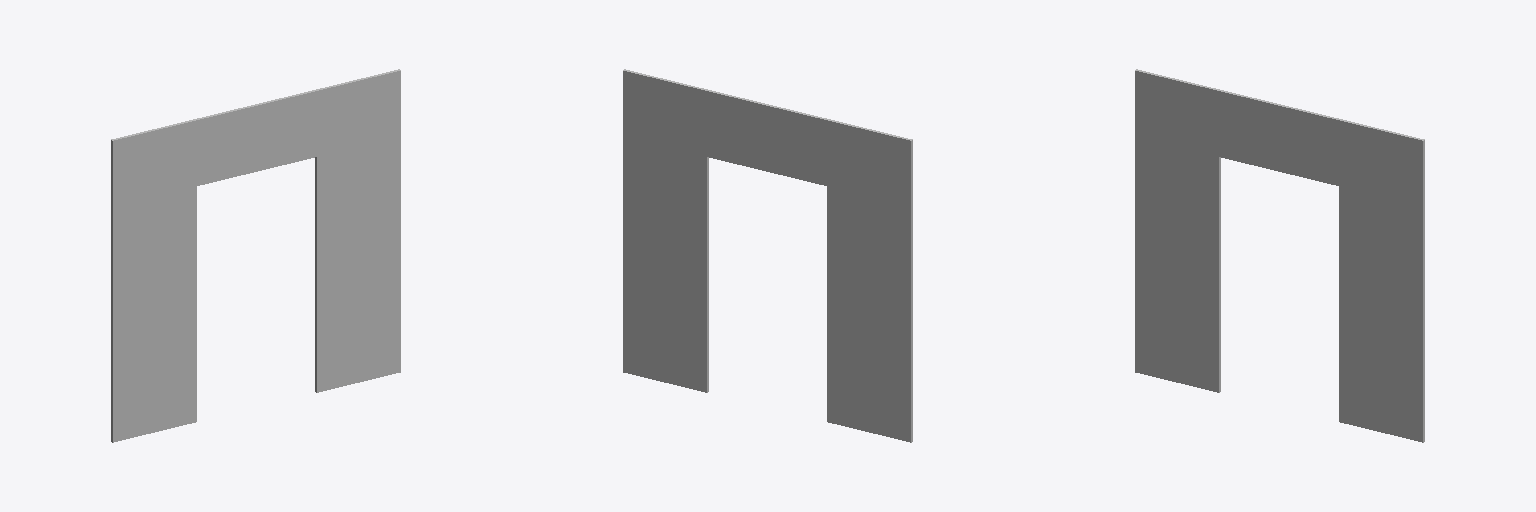
The model's file is tile pared pasillo con hueco para puerta invertido-1.obj.
3 renders of one model, left to right at view 1: azimuth 30°, elevation 25°; view 2: azimuth 150°, elevation 25°; view 3: azimuth 330°, elevation 25°, orthographic.
Visible parts, largest first — view 1: object 1; view 2: object 1; view 3: object 1.
Boxes of the visible parts, x1=… form: object 1: x1=111, y1=69, x2=400, y2=442; object 1: x1=623, y1=69, x2=912, y2=442; object 1: x1=1135, y1=69, x2=1424, y2=442.
Bounding box in the file's own units: 9.6 × 9.6 × 0.1.